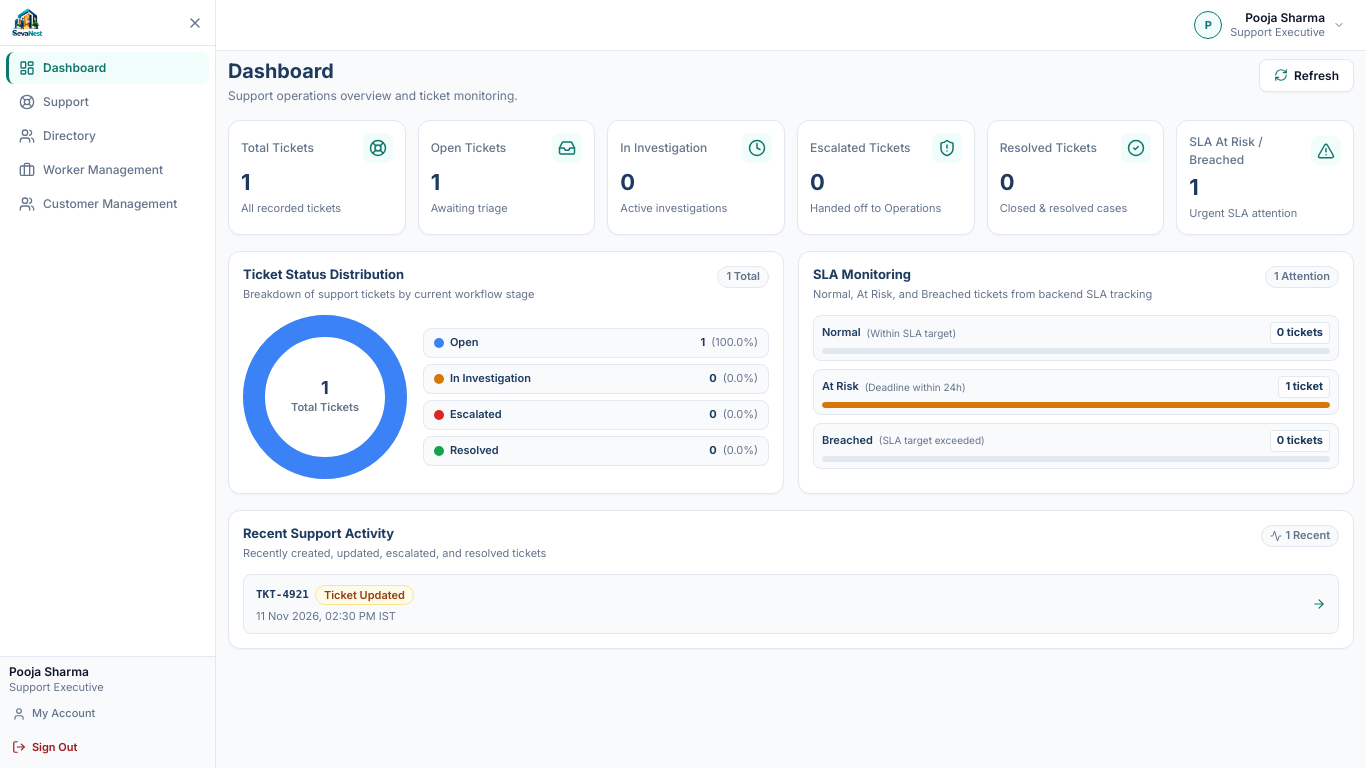
Test case: Support Executive Master Role & Operational Workflows › 1. Support Executive Analytics Dashboard › opens selected recent activity ticket chat modal directly within Dashboard without redirecting to /support
Expected: the heading "Dashboard" is shown, left=228, top=59, right=334, bottom=83
What coordinates should you click on to do the following:
click the button with aria-label "Open ticket TKT-4921"
I would click on:
 (282, 595)
Its box is left=243, top=574, right=1339, bottom=634.
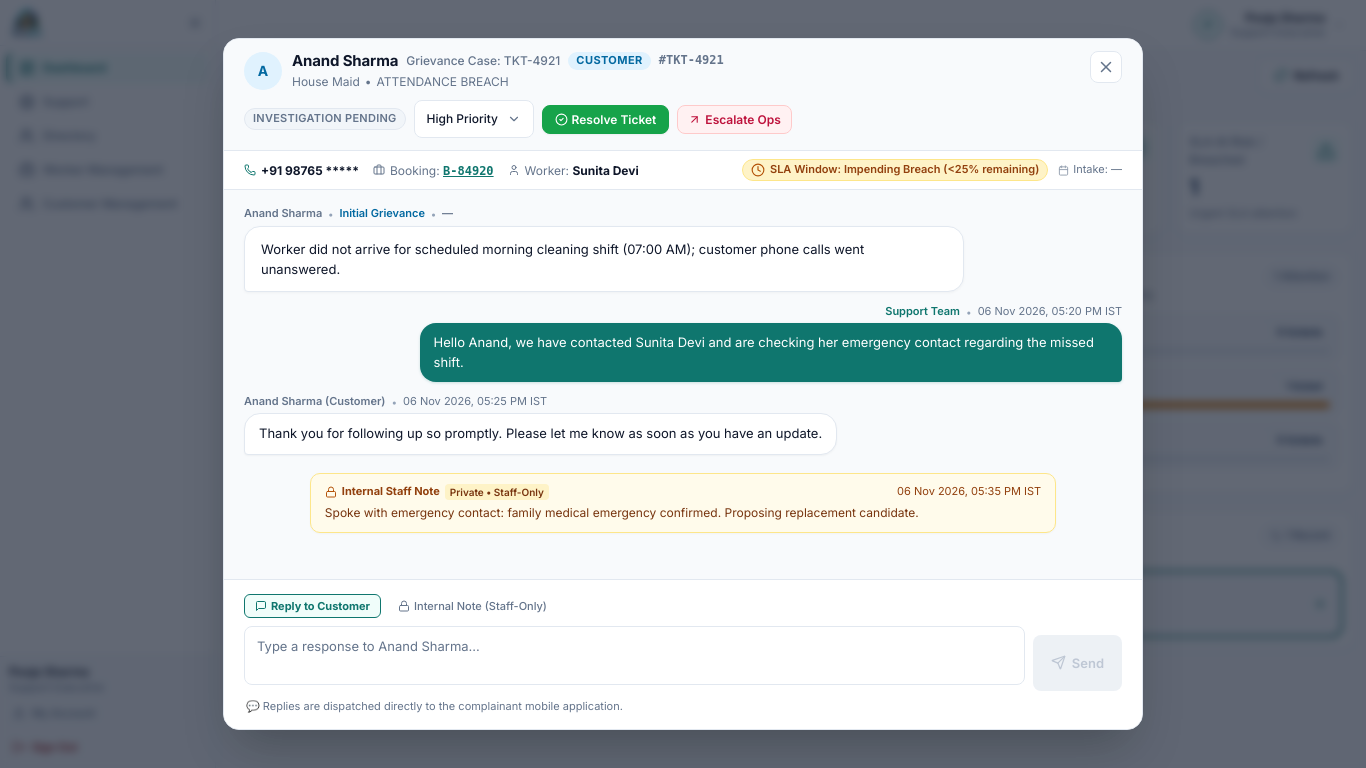
Expected: the dialog is shown
Expected: the text "#TKT-4921" is shown, left=659, top=52, right=724, bottom=70
Expected: the text box named "Support reply text" is shown, left=244, top=626, right=1025, bottom=685
